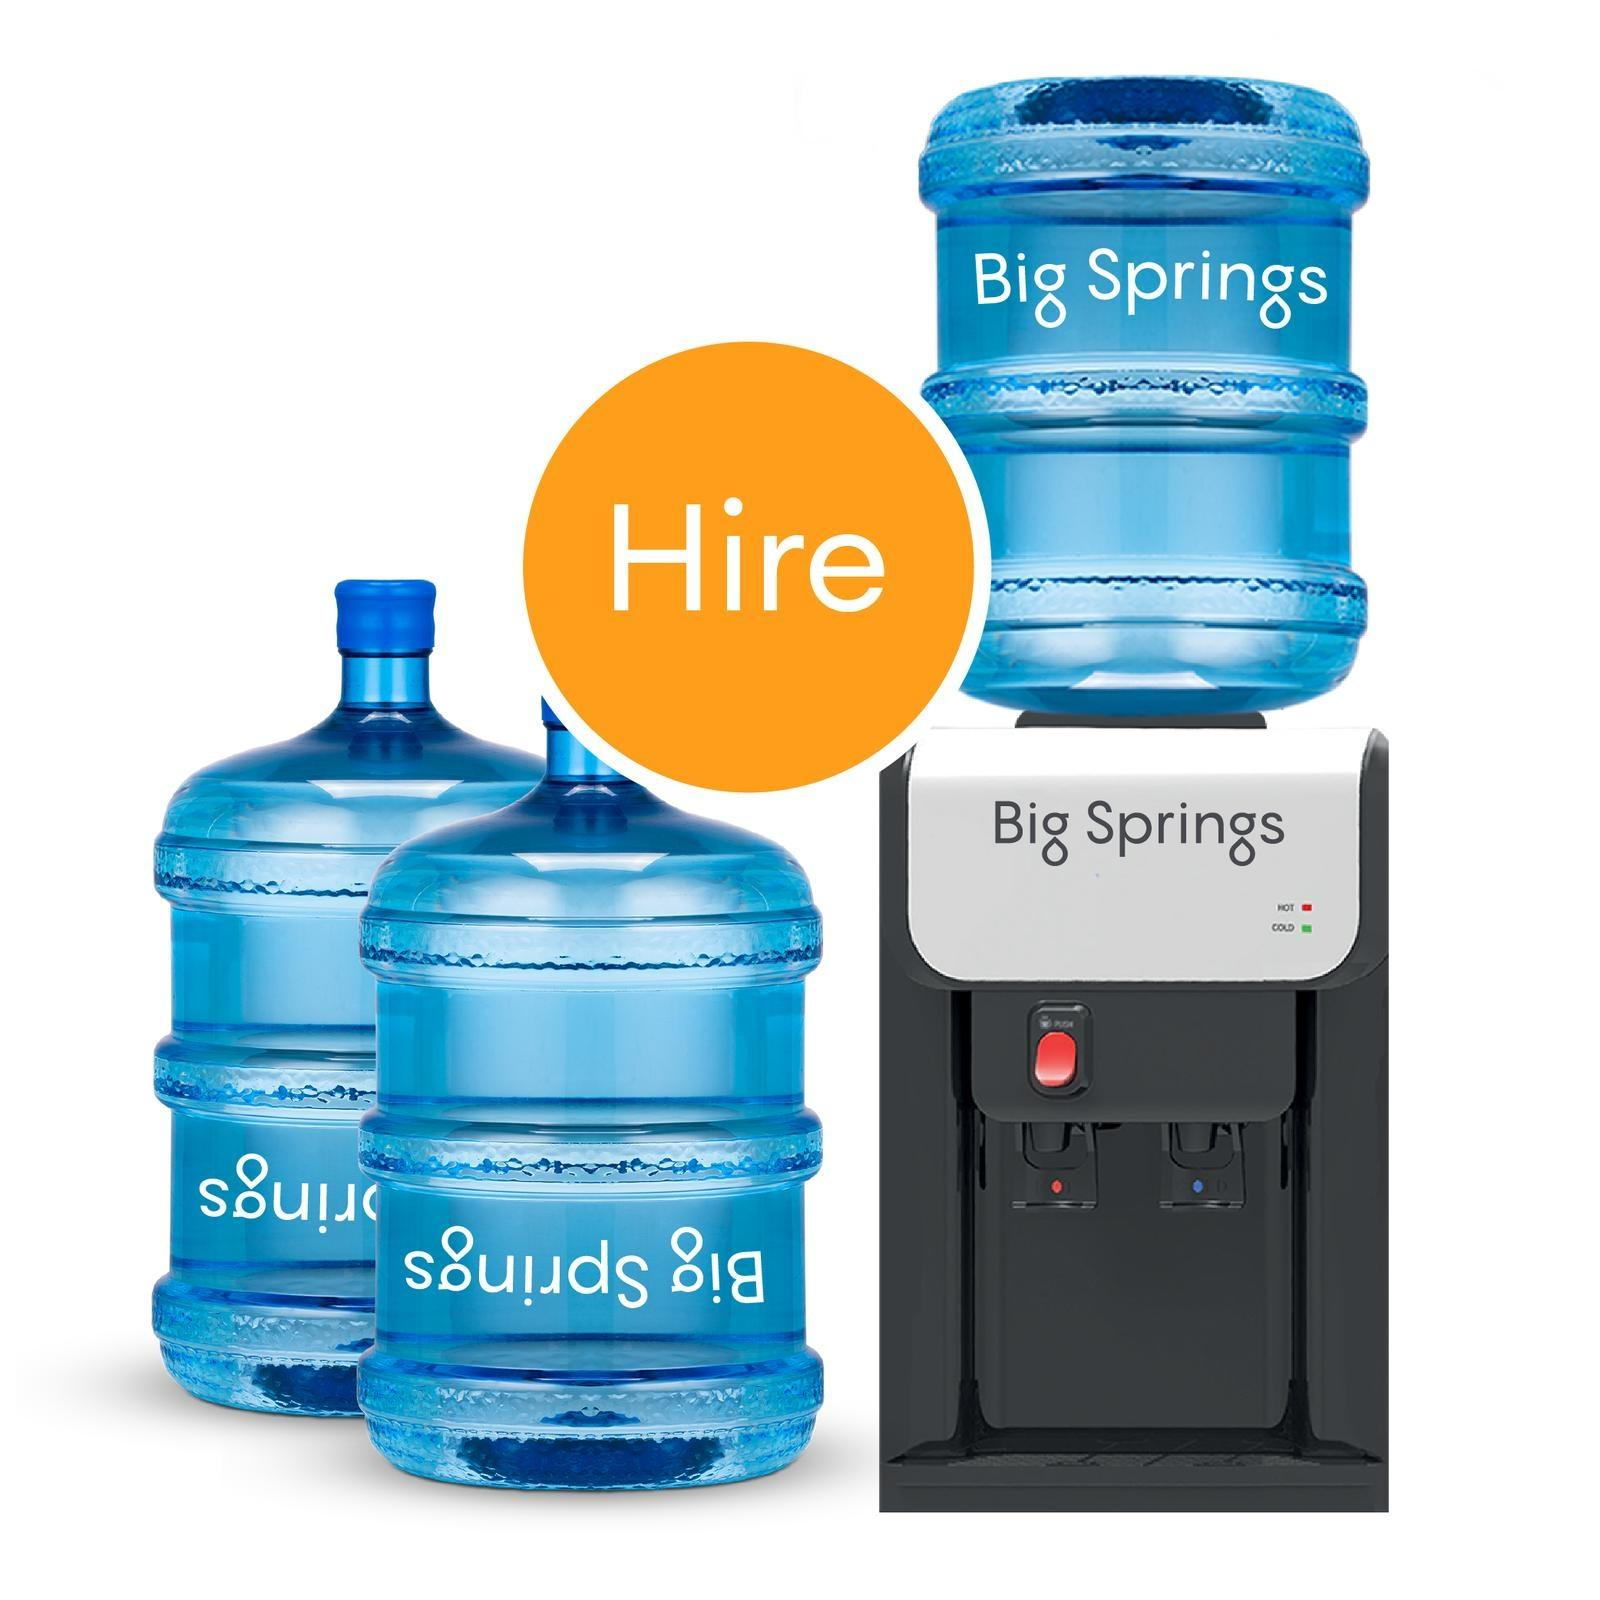Dispenser: (879, 81, 1388, 1514)
